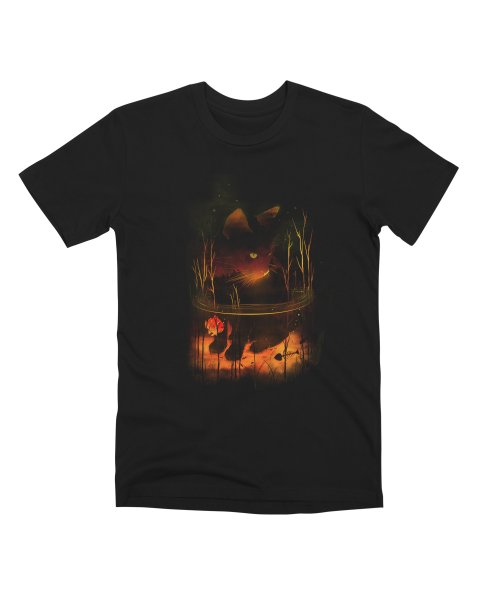design: (182, 169, 318, 386)
